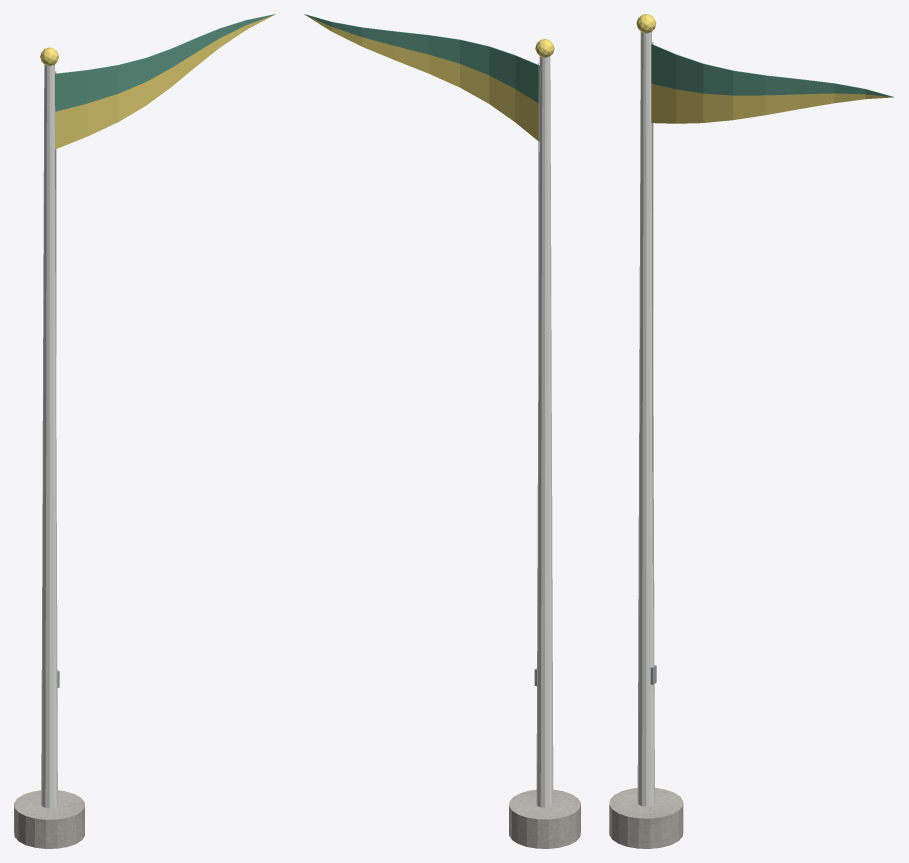
Rendered from flag_pole.glb.
3 views of the same model, side by side, from view 1: azimuth 30°, elevation 25°; view 2: azimuth 150°, elevation 25°; view 3: azimuth 330°, elevation 25° (orthographic). The views are drawn at different scales.
Parts seen in each view (by area): view 1: flag_pole_paint_w, flag_pole_flag_y, flag_pole_door, flag_pole_concrete; view 2: flag_pole_paint_w, flag_pole_flag_y, flag_pole_door, flag_pole_concrete; view 3: flag_pole_paint_w, flag_pole_flag_y, flag_pole_door, flag_pole_concrete, flag_pole_steel.
Part boxes in pixels (bbox=[...]): flag_pole_paint_w: bbox=[41, 65, 57, 808]; flag_pole_flag_y: bbox=[40, 15, 273, 149]; flag_pole_door: bbox=[55, 14, 275, 111]; flag_pole_concrete: bbox=[14, 790, 84, 848]; flag_pole_paint_w: bbox=[536, 56, 553, 807]; flag_pole_flag_y: bbox=[305, 15, 554, 141]; flag_pole_door: bbox=[304, 14, 539, 103]; flag_pole_concrete: bbox=[509, 789, 580, 848]; flag_pole_paint_w: bbox=[637, 32, 654, 806]; flag_pole_flag_y: bbox=[636, 14, 892, 123]; flag_pole_door: bbox=[651, 44, 894, 97]; flag_pole_concrete: bbox=[609, 788, 683, 848]; flag_pole_steel: bbox=[650, 42, 656, 684].
Bounding box in the file's own units: 2.55 × 7.28 × 0.6.
Materials: 5 (1 with a texture image).
